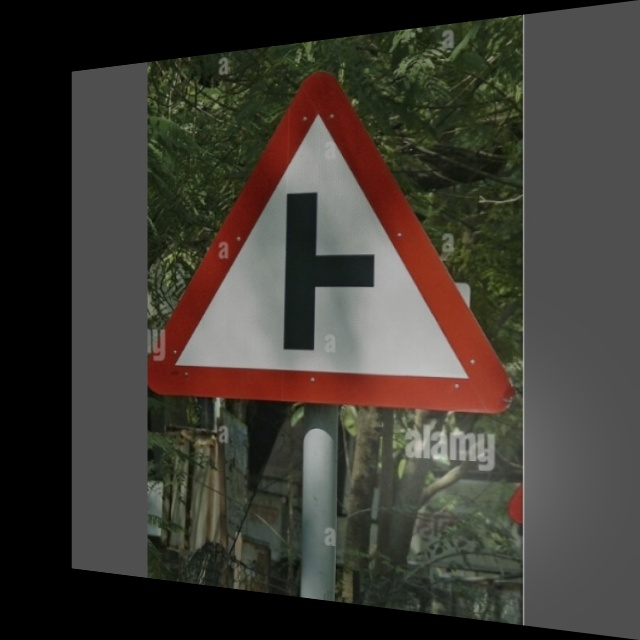Side_Road_Right: (175, 53, 500, 415)
